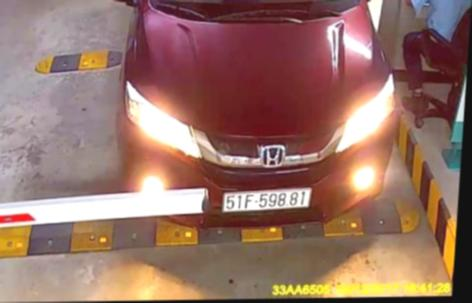License_Plate: (219, 185, 315, 217)
